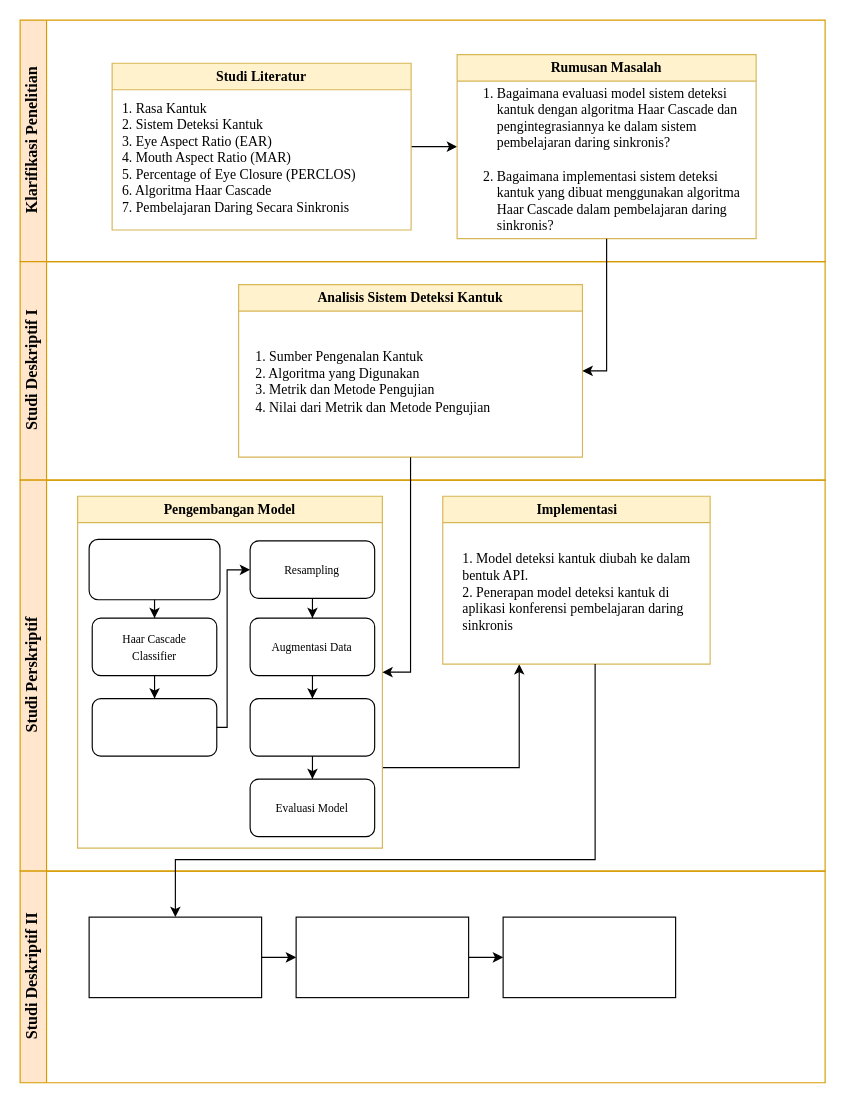
The diagram is 845 pixels wide and 1103 high, and some of its shapes have lost their labels. Each missing label, with the centre of its shape:
"Dokumentasi" belongs at point (589, 957).
"Pelatihan Model" belongs at point (312, 726).
"Pembagian Data (Training dan Testing)" belongs at point (154, 726).
"Pembahasan Hasil dan Kesimpulan" belongs at point (382, 957).
"Pengujian Performa Model Deteksi Kantuk Melibatkan Responden" belongs at point (175, 957).
"Yawn Dataset & Eyes Open or Closed Dataset" belongs at point (154, 569).
